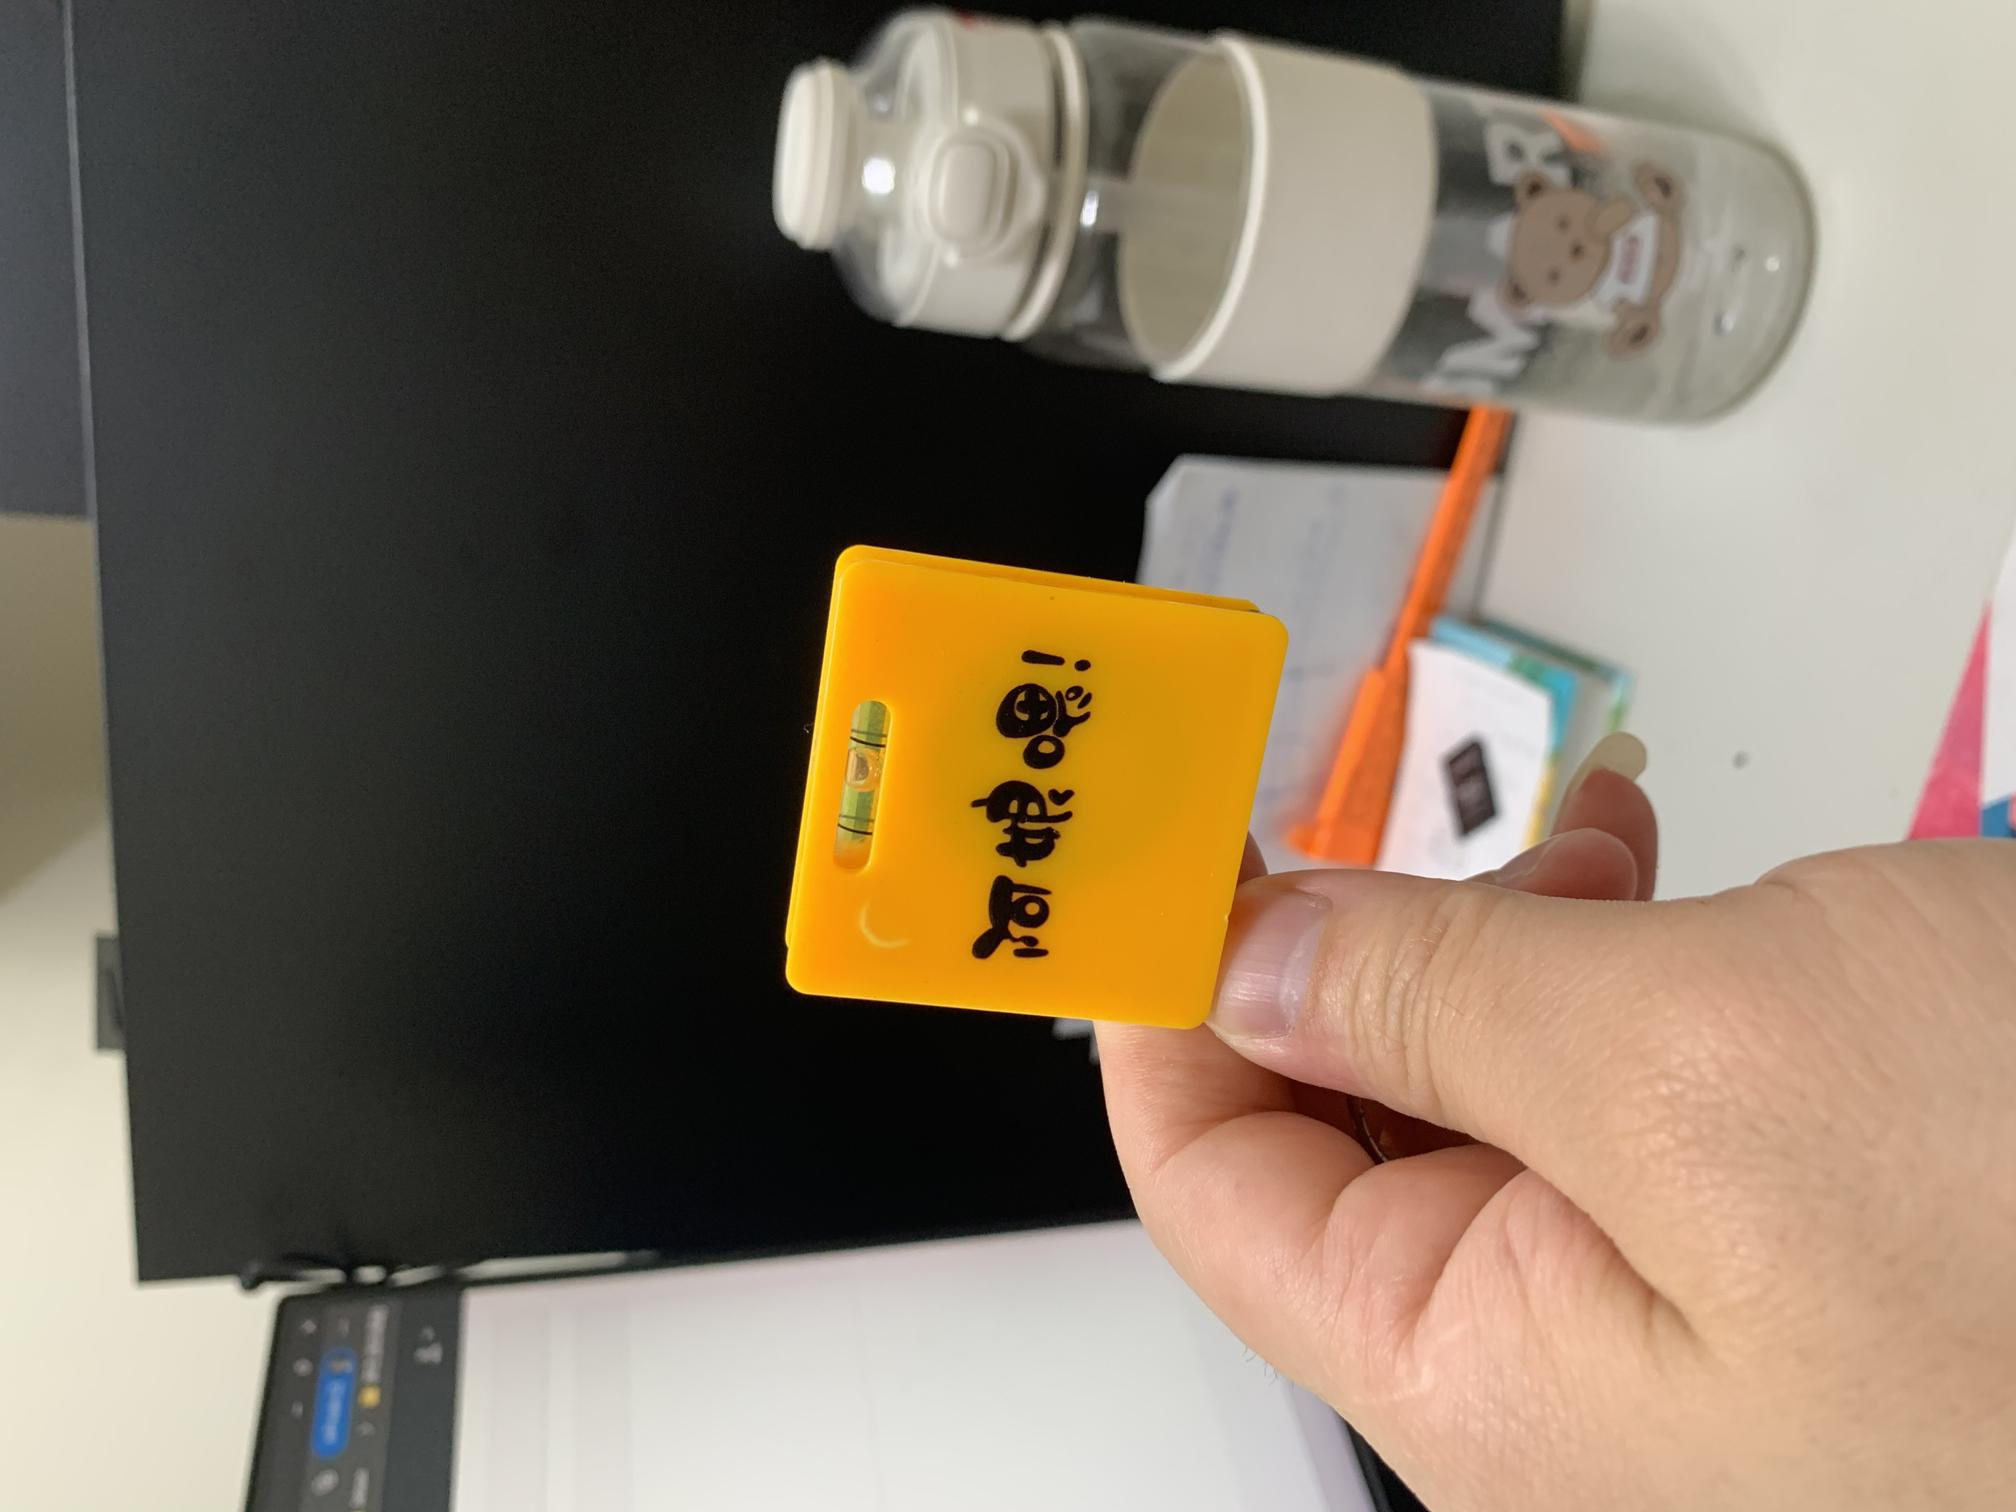Laio: (760, 552, 1288, 1004)
